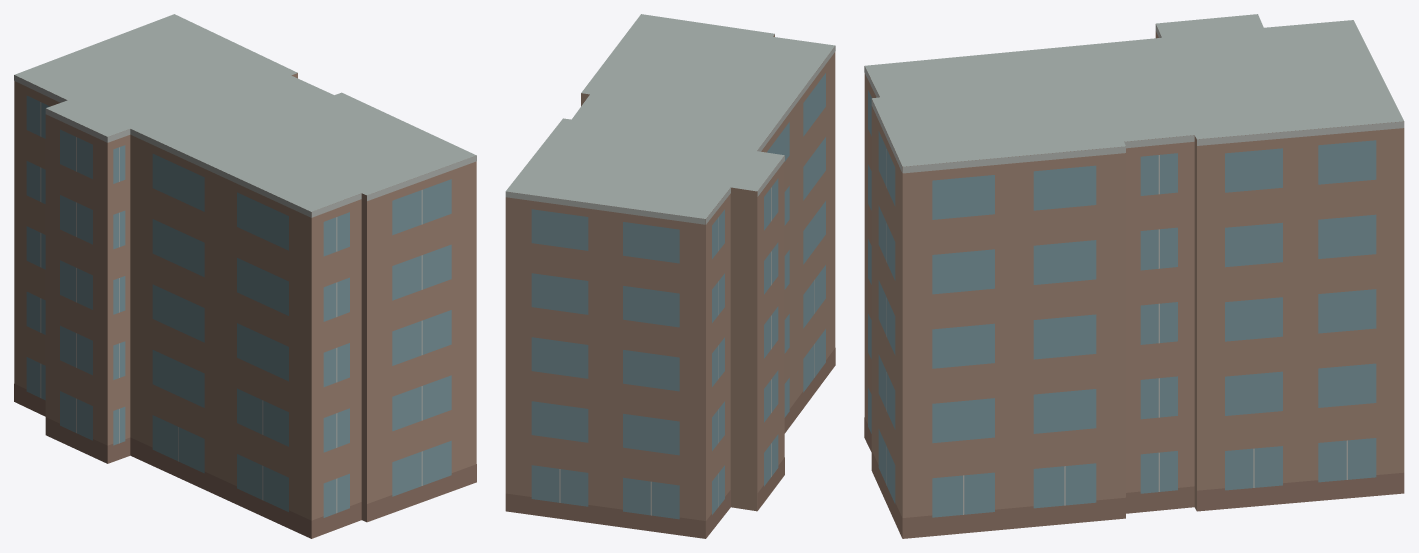
Rendered from survey-upis-33005549.glb.
3 views of the same model, side by side, from view 1: azimuth 30°, elevation 25°; view 2: azimuth 150°, elevation 25°; view 3: azimuth 270°, elevation 25° (orthographic). The views are drawn at different scales.
Visible parts, largest first — view 1: survey-upis-33005549.tmp; view 2: survey-upis-33005549.tmp; view 3: survey-upis-33005549.tmp.
Boxes of the visible parts, x1,y1,x2,y2 form: survey-upis-33005549.tmp: (14, 14, 476, 538); survey-upis-33005549.tmp: (505, 14, 835, 538); survey-upis-33005549.tmp: (864, 14, 1404, 538).
Bounding box in the file's own units: 11.9 × 13.5 × 17.76.
